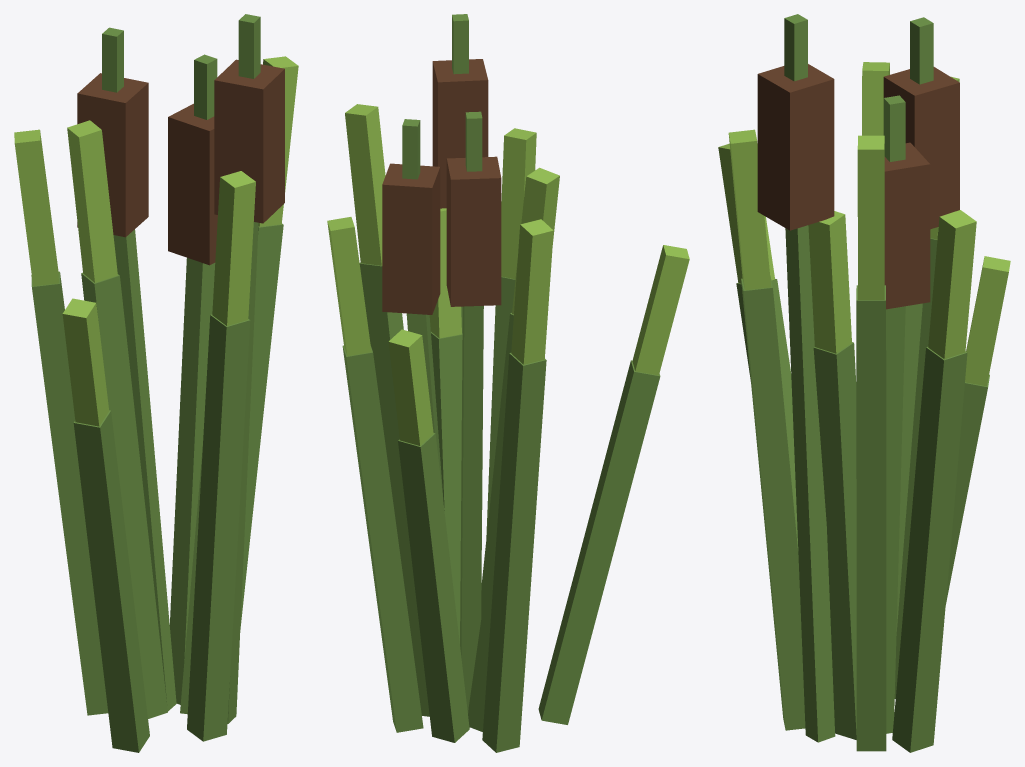
The model's file is C06_reeds.obj.
3 views of the same model, side by side, from view 1: azimuth 30°, elevation 25°; view 2: azimuth 150°, elevation 25°; view 3: azimuth 270°, elevation 25° (orthographic). The views are drawn at different scales.
Visible parts, largest first — view 1: C06_reeds; view 2: C06_reeds; view 3: C06_reeds.
Part boxes in pixels (x1,y1,x2,y2): C06_reeds: (14, 14, 298, 752); C06_reeds: (327, 14, 689, 752); C06_reeds: (718, 14, 1010, 752).
Bounding box in the file's own units: 0.8243 × 1.9 × 0.6915.
